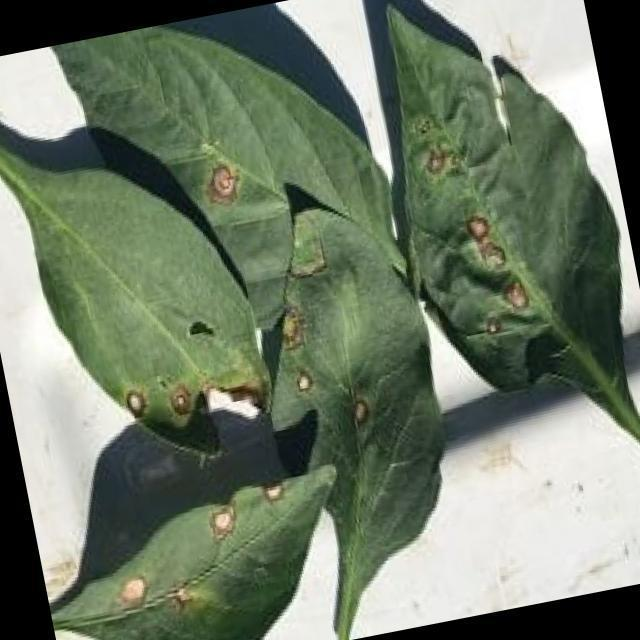Septoria: (84, 485, 309, 640), (406, 96, 519, 346), (262, 291, 380, 463), (120, 368, 202, 442)
